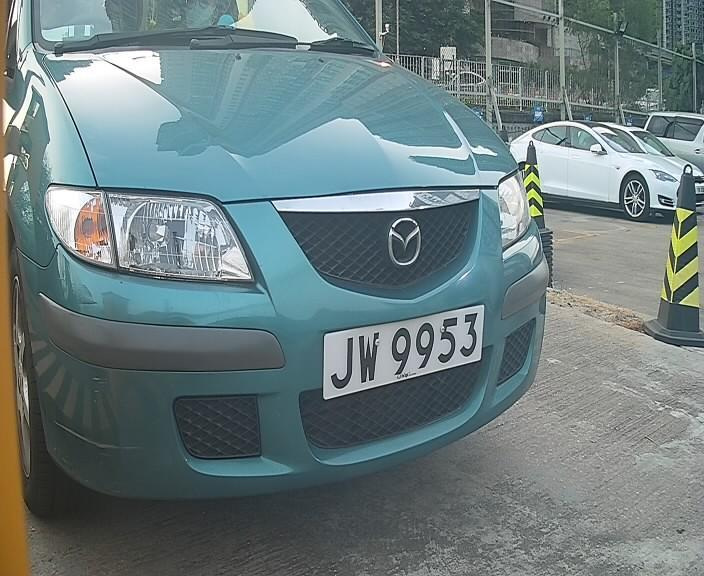License Plate: (321, 299, 488, 394)
